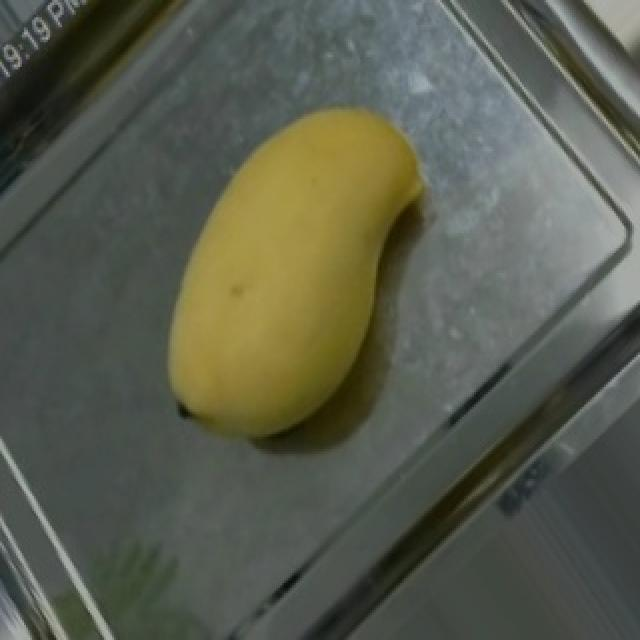fruit: (144, 45, 470, 419)
